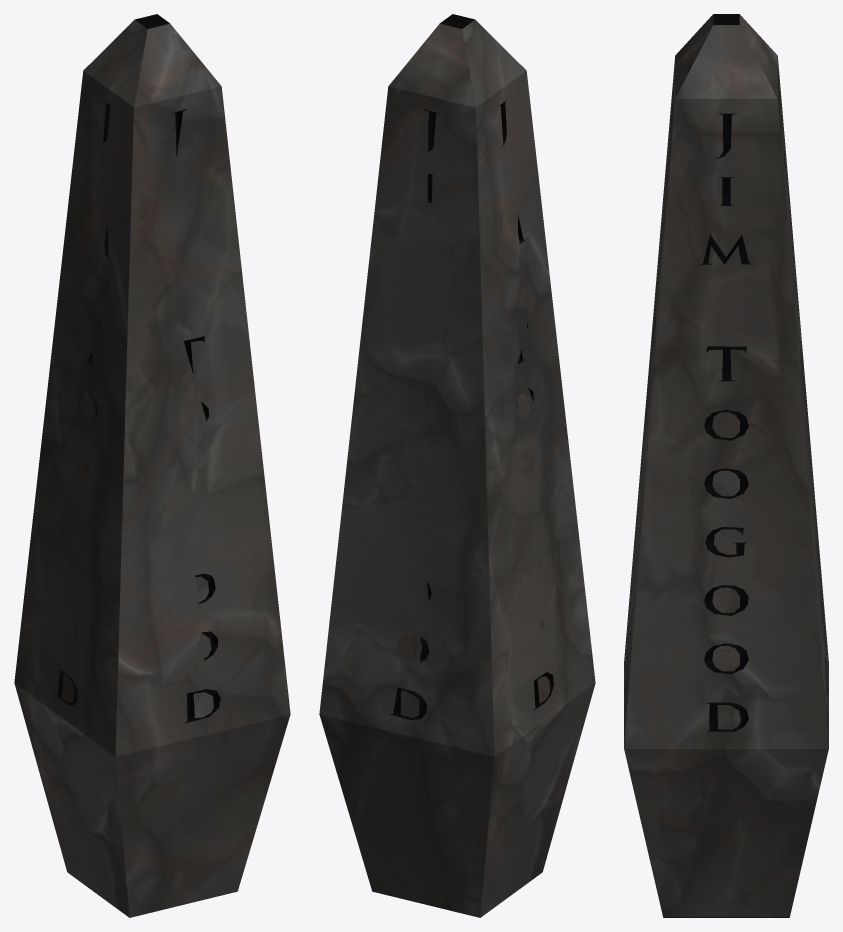
File: signature.obj
The picture shows the model from 3 angles, left to right: view 1: azimuth 30°, elevation 25°; view 2: azimuth 150°, elevation 25°; view 3: azimuth 270°, elevation 25°; orthographic projection.
Parts seen in each view (by area): view 1: Obelisk; view 2: Obelisk; view 3: Obelisk.
Part boxes in pixels (x1=…): Obelisk: x1=14, y1=14, x2=290, y2=917; Obelisk: x1=319, y1=14, x2=595, y2=917; Obelisk: x1=624, y1=14, x2=828, y2=917.
Bounding box in the file's own units: 2 × 9.39 × 2.
1 material, 1 textured.
